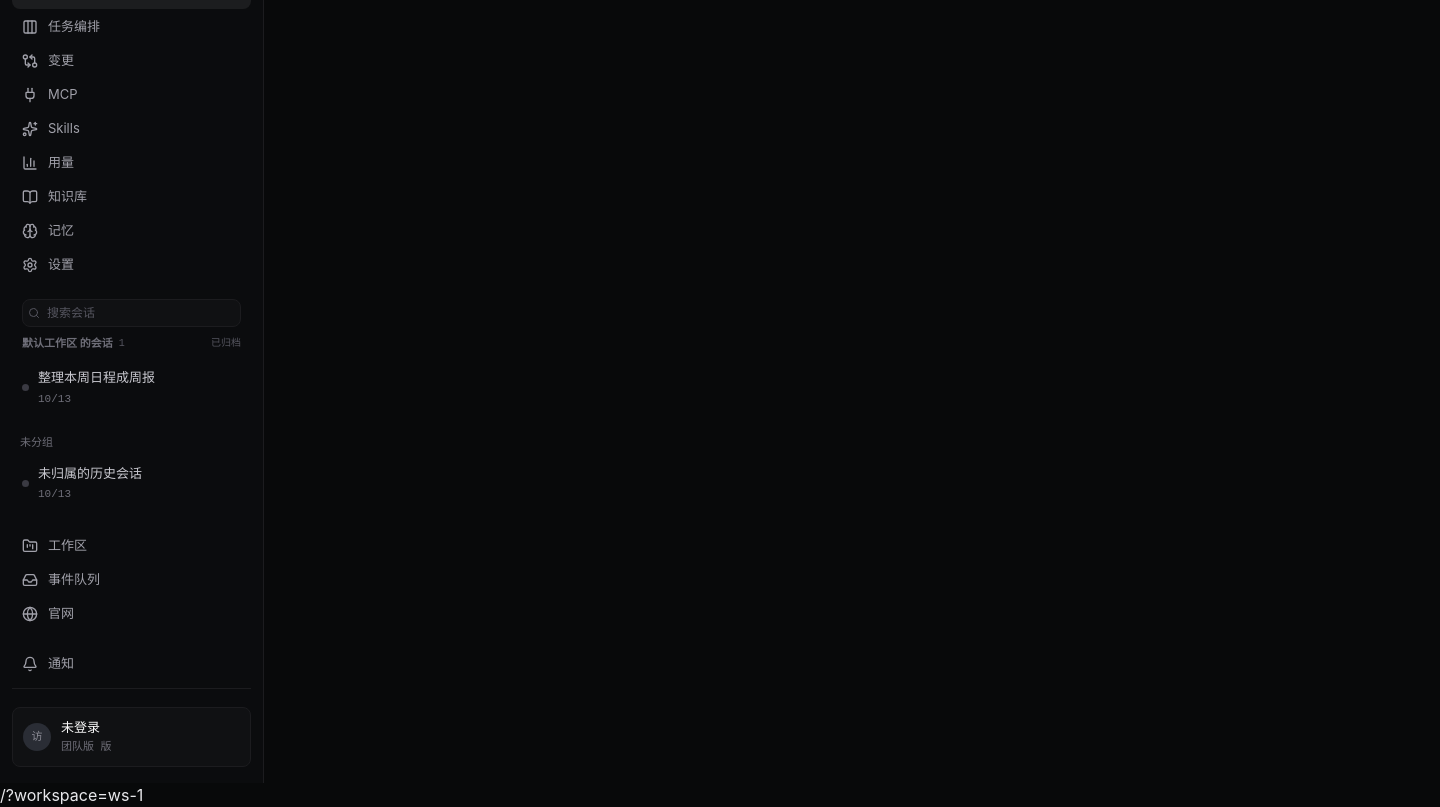
Test case: ConsoleSidebar 工作区/会话 › 底部通知入口能就地展开通知面板
(page scrolled)
expect the text "整理本周日程成周报" is shown: met, box [38,370,155,386]
Click the button "通知" at (132, 664), box [12,648,251,680]
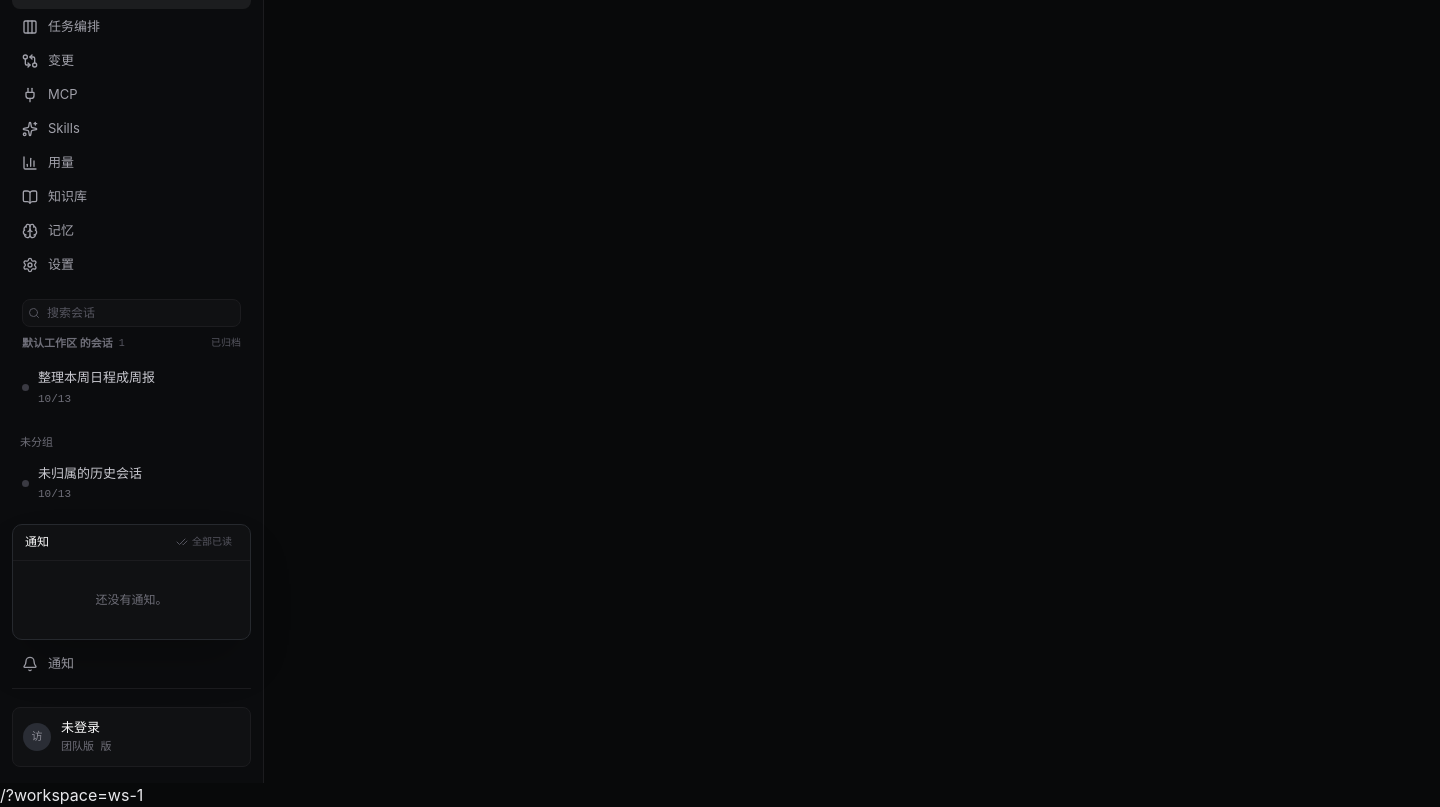
expect the dialog named "通知面板" is shown: met, box [12,524,251,640]
